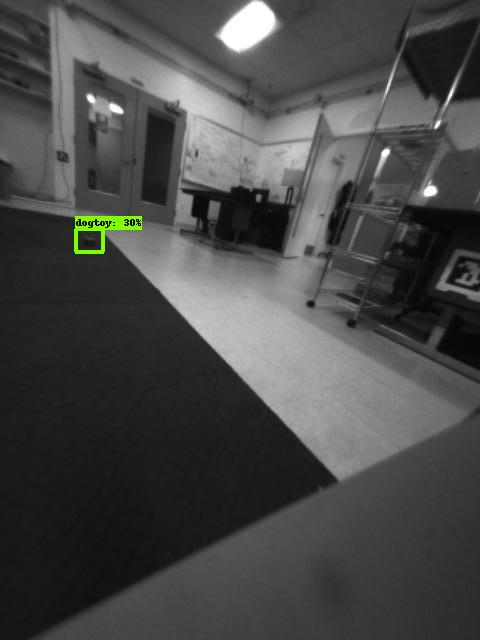dogtoy: (78, 229, 103, 249)
